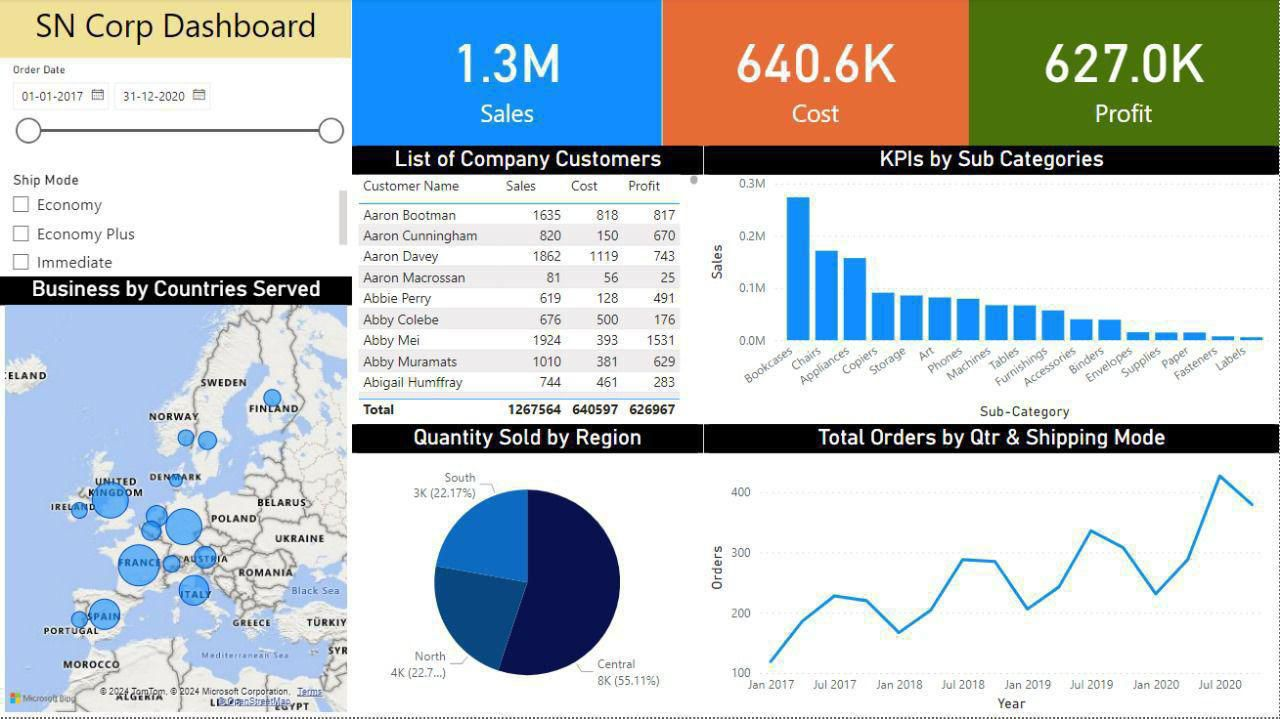

Layout of this report page (visuals, bound fields, positions):
{"tool":"powerbi","page":{"name":"Page 1","canvas":[1280,720],"ordinal":0},"visuals":[{"type":"card","fields":{"Values":["List of Orders.Sales"]},"box":[467.1,0,282.5,127.2],"z":0},{"type":"card","fields":{"Values":["List of Orders.Cost"]},"box":[714.9,0,282.7,127.6],"z":1000},{"type":"card","fields":{"Values":["List of Orders.Profit"]},"box":[997.6,2.7,282.7,124.9],"z":2000},{"type":"tableEx","fields":{"Values":["List of Orders.Customer Name","List of Orders.Sales","List of Orders.Cost","List of Orders.Profit"]},"box":[466.6,127.6,424,274.4],"z":3000},{"type":"clusteredColumnChart","fields":{"Y":["List of Orders.Sales"],"Category":["List of Orders.Sub-Category"]},"box":[890.2,141.8,390.1,286.1],"z":4000},{"type":"lineChart","fields":{"Y":["List of Orders.Order ID"],"Category":["List of Orders.Order Date.Variation.Date Hierarchy.Year","List of Orders.Order Date.Variation.Date Hierarchy.Quarter"]},"box":[889.8,419.8,390.8,301],"z":5000},{"type":"pieChart","fields":{"Y":["List of Orders.Quantity"],"Category":["List of Orders.Region"]},"box":[467.9,402.1,406.2,318.4],"z":6000},{"type":"azureMap","title":"Business by Countires Served","fields":{"Category":["List of Orders.Country"],"Size":["List of Orders.Sales"]},"box":[0,306,466.6,414.4],"z":7000},{"type":"textbox","box":[0,0,468.1,63.6],"z":8000},{"type":"textbox","box":[0,2.4,467.1,52.6],"z":9000},{"type":"slicer","fields":{"Values":["List of Orders.Ship Mode"]},"box":[0,159,468.3,146.7],"z":10000},{"type":"slicer","fields":{"Values":["List of Orders.Order Date"]},"box":[0,63.6,468.3,95.4],"z":11000}]}

Visuals, with their boxes in screenshot pixels (x1, y1, x2, y2), scaled from the page's 1280x720 canvas onto the 1280x719 screenshot:
card - List of Orders.Sales: box(467, 0, 750, 127)
card - List of Orders.Cost: box(715, 0, 998, 127)
card - List of Orders.Profit: box(998, 3, 1279, 127)
tableEx - List of Orders.Customer Name x List of Orders.Sales: box(467, 127, 891, 401)
clusteredColumnChart - List of Orders.Sales x List of Orders.Sub-Category: box(890, 142, 1279, 427)
lineChart - List of Orders.Order ID x List of Orders.Order Date.Variation.Date Hierarchy.Year: box(890, 419, 1279, 718)
pieChart - List of Orders.Quantity x List of Orders.Region: box(468, 402, 874, 718)
"Business by Countires Served" azureMap: box(0, 306, 467, 718)
textbox: box(0, 0, 468, 64)
textbox: box(0, 2, 467, 55)
slicer - List of Orders.Ship Mode: box(0, 159, 468, 305)
slicer - List of Orders.Order Date: box(0, 64, 468, 159)
